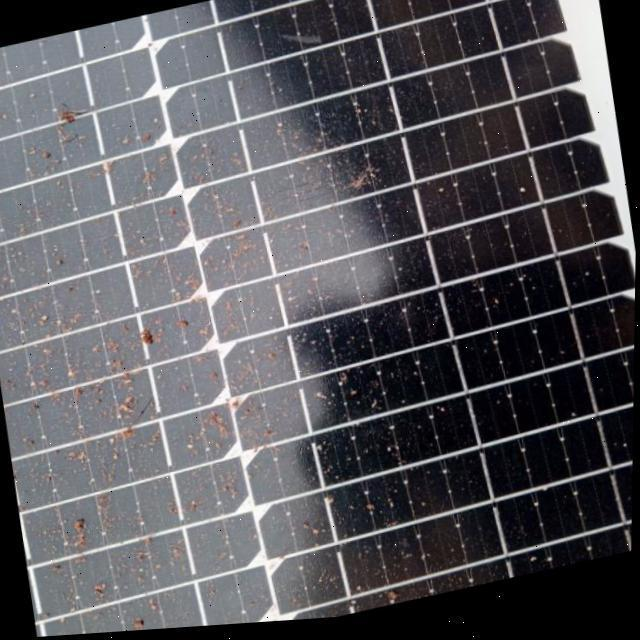Anomaly Solar Panel: (0, 0, 640, 640)
Surface Contaminant: (282, 0, 634, 605)
